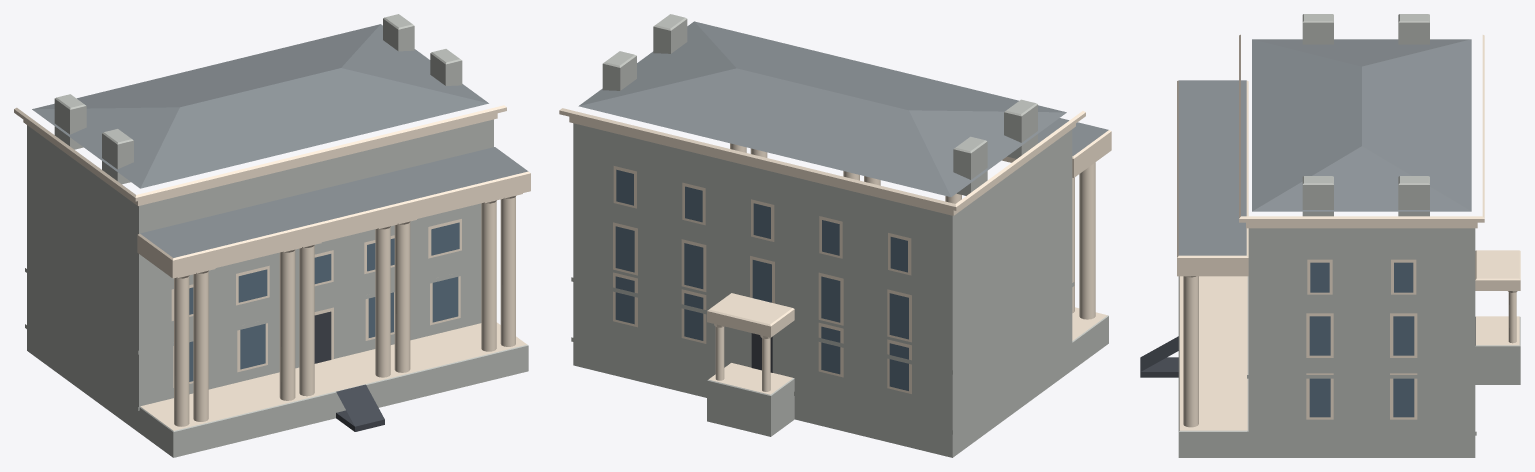
Rendered from ric-white-house-confederacy.glb.
3 views of the same model, side by side, from view 1: azimuth 30°, elevation 25°; view 2: azimuth 150°, elevation 25°; view 3: azimuth 270°, elevation 25° (orthographic). The views are drawn at different scales.
Parts seen in each view (by area): view 1: White House of the Confederacy; view 2: White House of the Confederacy; view 3: White House of the Confederacy.
Boxes of the visible parts, box(x1,y1,x2,y2) form: White House of the Confederacy: box(14, 14, 530, 457); White House of the Confederacy: box(559, 14, 1111, 457); White House of the Confederacy: box(1140, 14, 1520, 457).
Bounding box in the file's own units: 24.9 × 17.2 × 21.8.
